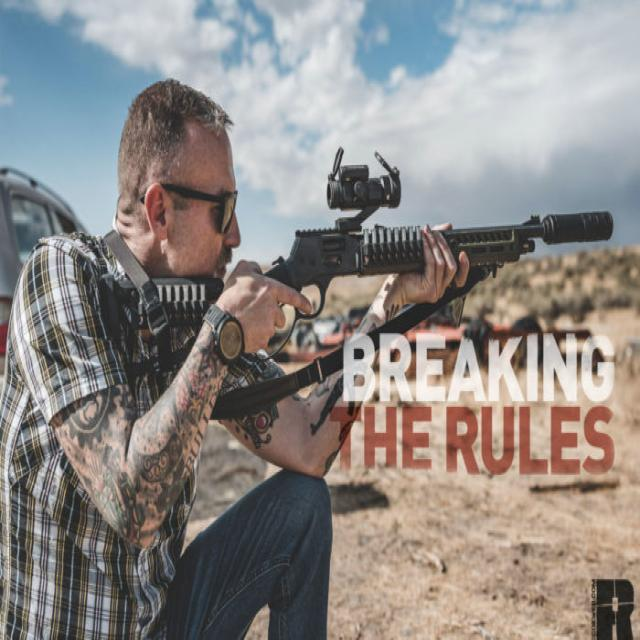Rifle: (128, 145, 622, 375)
